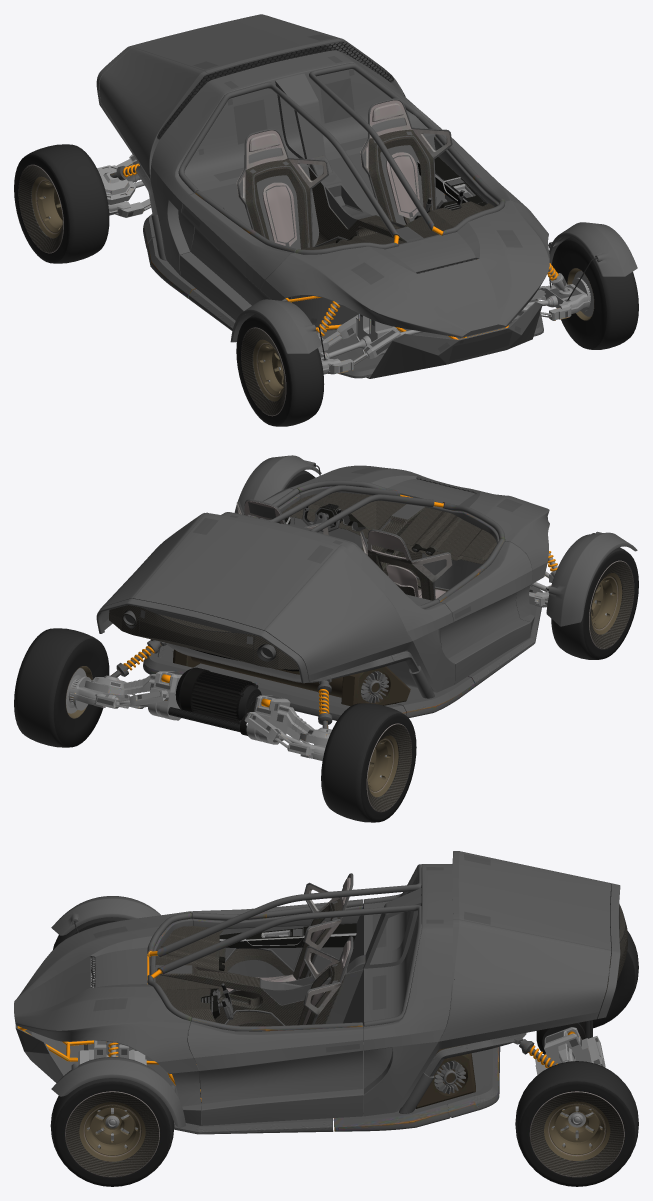
File: SUP_sci___fi_buggy.glb
3 views of the same model, one above another, from view 1: azimuth 30°, elevation 25°; view 2: azimuth 150°, elevation 25°; view 3: azimuth 270°, elevation 25° (orthographic). The views are drawn at different scales.
Visible parts, largest first — view 1: SUP_sci___fi_buggy; view 2: SUP_sci___fi_buggy; view 3: SUP_sci___fi_buggy.
Boxes of the visible parts, left/top/right/bottom form: SUP_sci___fi_buggy: left=14, top=14, right=638, bottom=426; SUP_sci___fi_buggy: left=14, top=455, right=638, bottom=822; SUP_sci___fi_buggy: left=14, top=851, right=638, bottom=1186.
Bounding box in the file's own units: 17.03 × 9.71 × 25.18.
Materials: 22 (12 with a texture image).
